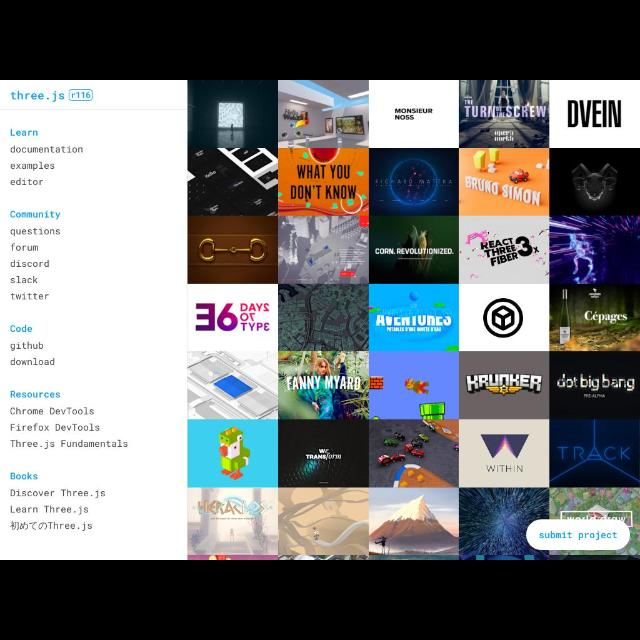backgroundimage: (189, 80, 639, 558)
image: (10, 86, 94, 108)
text: (10, 436, 130, 450), (10, 418, 102, 436), (8, 486, 106, 499), (11, 404, 97, 418), (10, 518, 94, 532), (8, 502, 90, 516), (10, 144, 84, 156), (8, 387, 62, 403), (10, 207, 60, 221), (9, 225, 65, 237), (538, 532, 620, 540), (10, 257, 50, 273), (8, 339, 50, 353), (10, 289, 50, 303), (9, 175, 46, 188), (9, 160, 57, 170), (8, 126, 40, 138), (10, 242, 42, 254), (8, 276, 40, 288), (10, 358, 58, 366), (9, 470, 41, 482), (9, 321, 33, 335)
textbutton: (526, 520, 632, 550)
